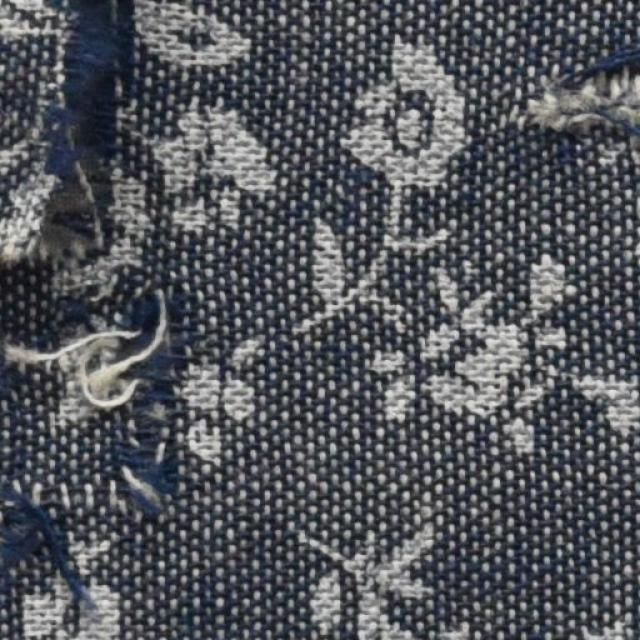Snag: (16, 4, 128, 243), (527, 52, 639, 194), (6, 484, 92, 625)
